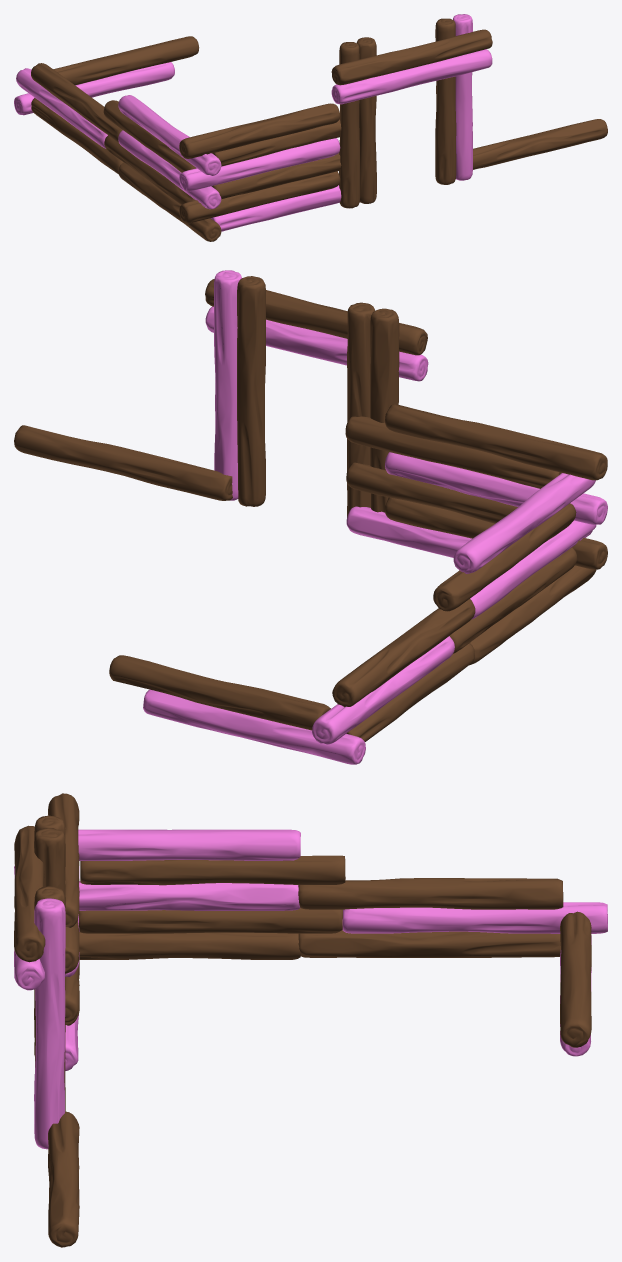
Rendered from Cabin_01.fbx.
3 views of the same model, one above another, from view 1: azimuth 30°, elevation 25°; view 2: azimuth 150°, elevation 25°; view 3: azimuth 270°, elevation 25° (orthographic). The views are drawn at different scales.
Parts seen in each view (by area): view 1: Group64996; view 2: Group64996; view 3: Group64996.
Part boxes in pixels (left/top/right/bottom): Group64996: left=14, top=14, right=607, bottom=241; Group64996: left=14, top=270, right=607, bottom=764; Group64996: left=14, top=793, right=607, bottom=1247.
Bounding box in the file's own units: 1045 × 381 × 849.
